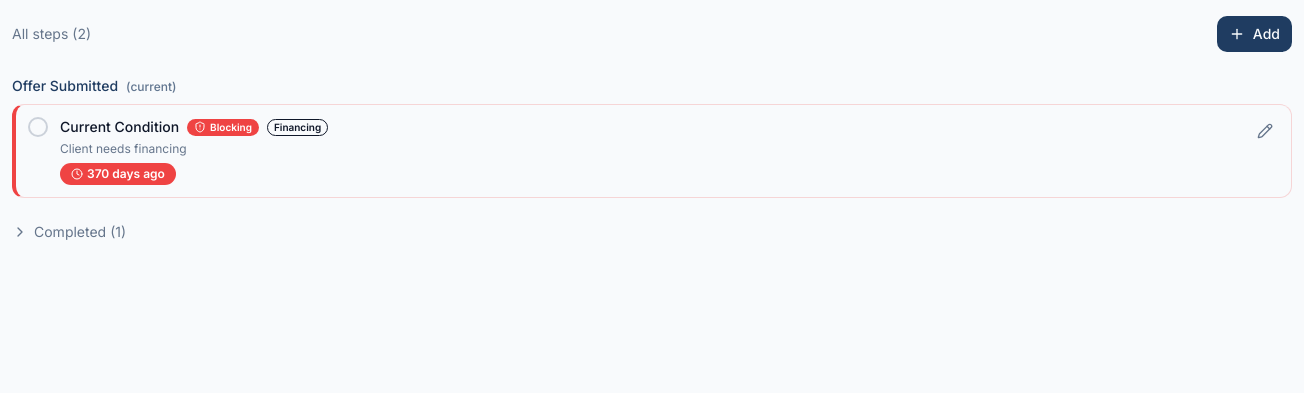
Test: ConditionsTab › toggles past steps visibility on click
Expected: the text "Current Condition" is shown, [60,117,179,137]
Expected: the text "Past Condition" is not shown
// Toggle reveals past conditions
What coordinates should you click on to do the following:
click the button with test id "toggle-past-steps"
I would click on:
 (69, 232)
Its box is [12,222,126,242].
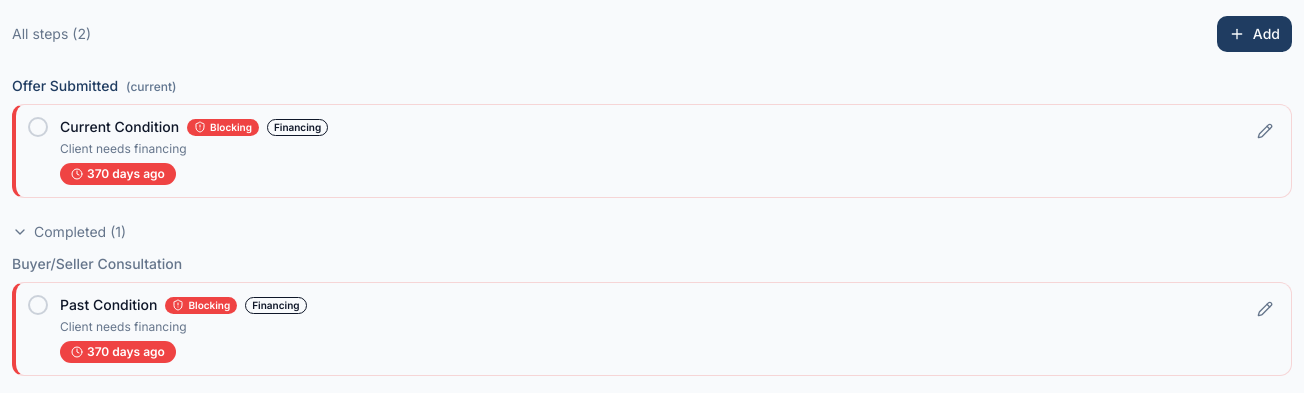
Expected: the text "Past Condition" is shown, [60,295,157,315]
